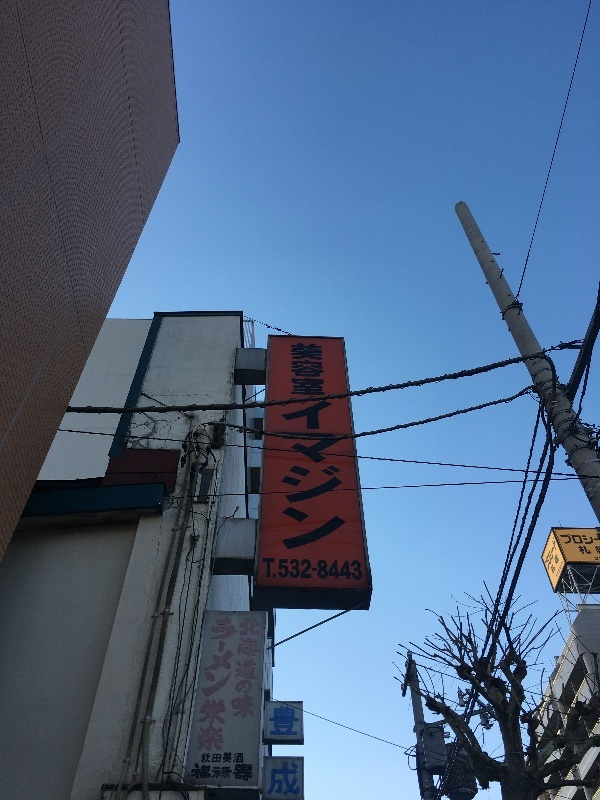text: (289, 401, 304, 551), (305, 401, 320, 551), (321, 401, 336, 551), (225, 618, 239, 753), (211, 618, 224, 753), (337, 401, 348, 551), (241, 617, 256, 722), (281, 401, 288, 551), (305, 343, 320, 395), (291, 343, 304, 395), (257, 617, 262, 722), (273, 762, 288, 796), (545, 537, 560, 571), (273, 706, 288, 735), (289, 762, 301, 796), (273, 558, 288, 580), (289, 558, 304, 580), (305, 558, 320, 580), (321, 558, 336, 580), (337, 558, 352, 580), (289, 706, 300, 735), (193, 763, 208, 782), (209, 763, 224, 782), (225, 763, 240, 782), (321, 343, 326, 395), (241, 763, 253, 782), (353, 558, 363, 580), (263, 558, 272, 580), (551, 554, 560, 575), (209, 752, 224, 764), (225, 752, 240, 764), (561, 533, 576, 545), (577, 533, 592, 545), (577, 545, 592, 555), (269, 762, 272, 796), (593, 533, 600, 545), (202, 752, 208, 764), (593, 545, 600, 555), (270, 706, 272, 735), (241, 752, 244, 764)
